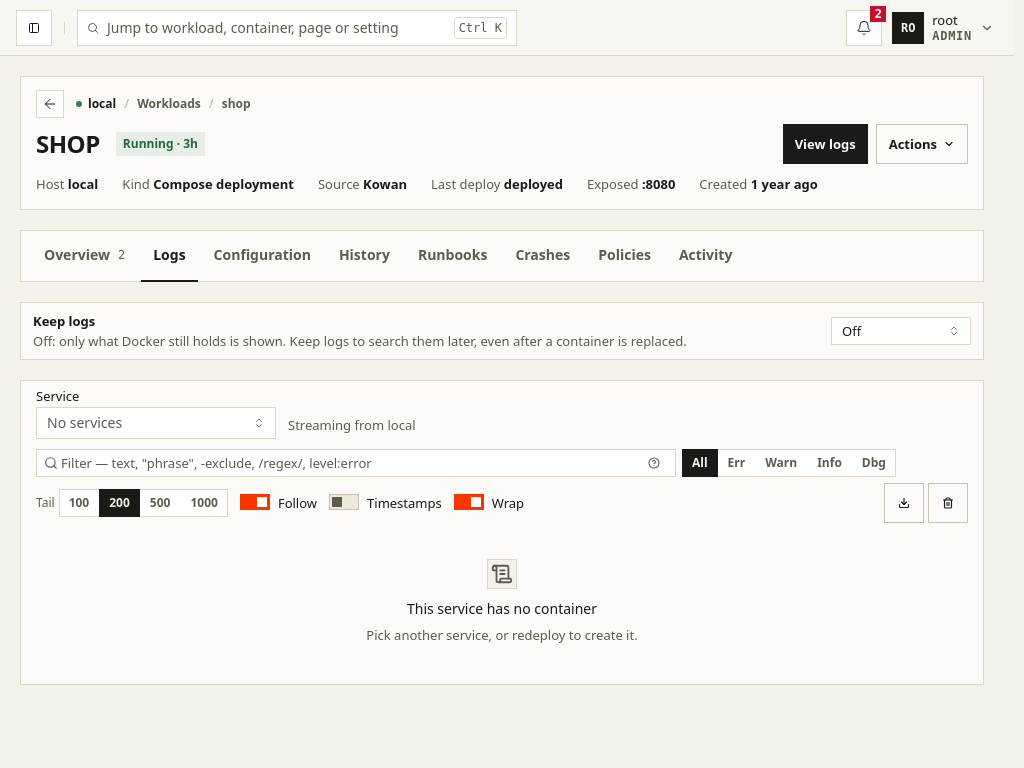
it: keep logs on a workload › turns retention on from the logs tab
This screenshot has width=1024, height=768.
Expected: the text "only what Docker still holds" is shown, [33, 332, 687, 350]
Click the dropdown named "Keep logs": {"x": 901, "y": 331} [831, 317, 971, 345]
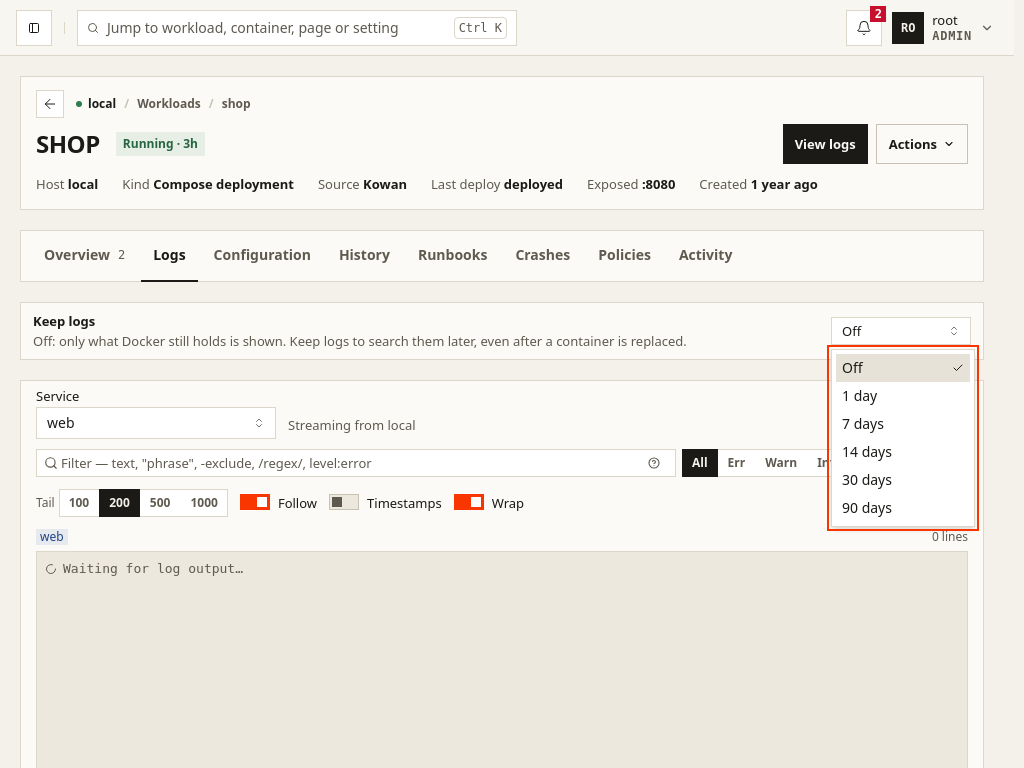
Click the option "14 days": {"x": 867, "y": 452} [842, 442, 892, 461]
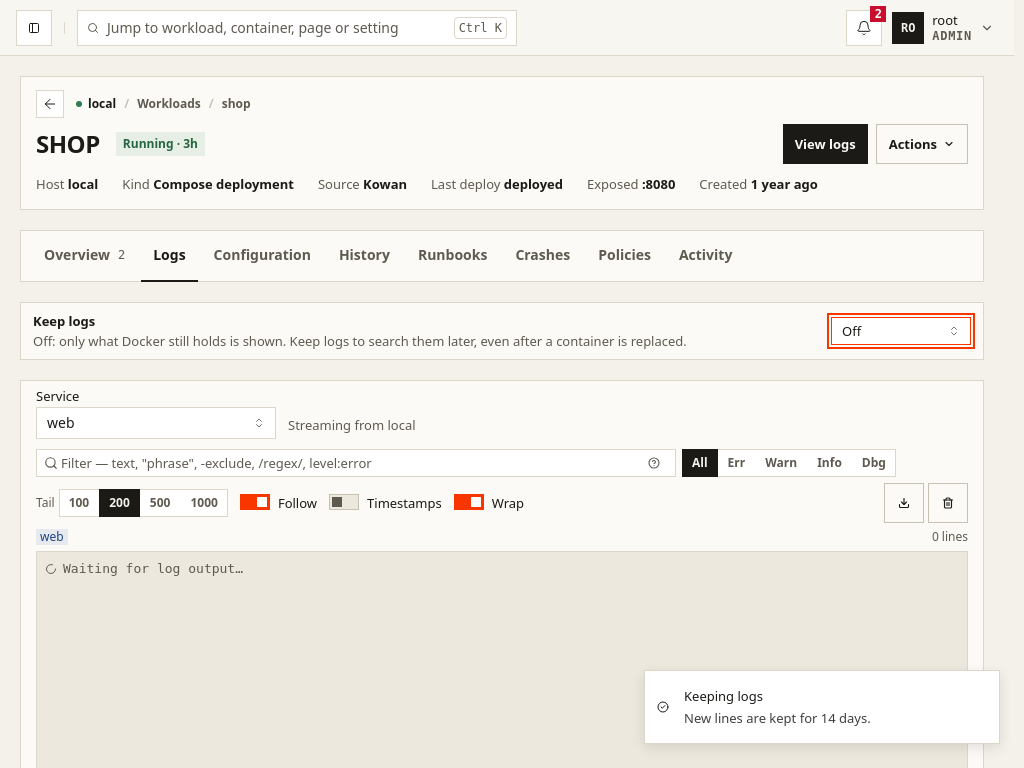
Result: the text "New lines are kept for 14 days." is shown at [684, 709, 871, 727]
